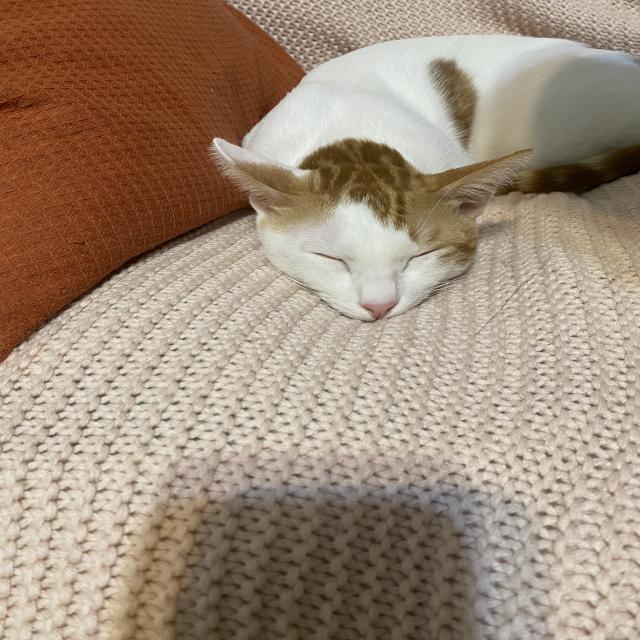cat1: (206, 31, 640, 324)
